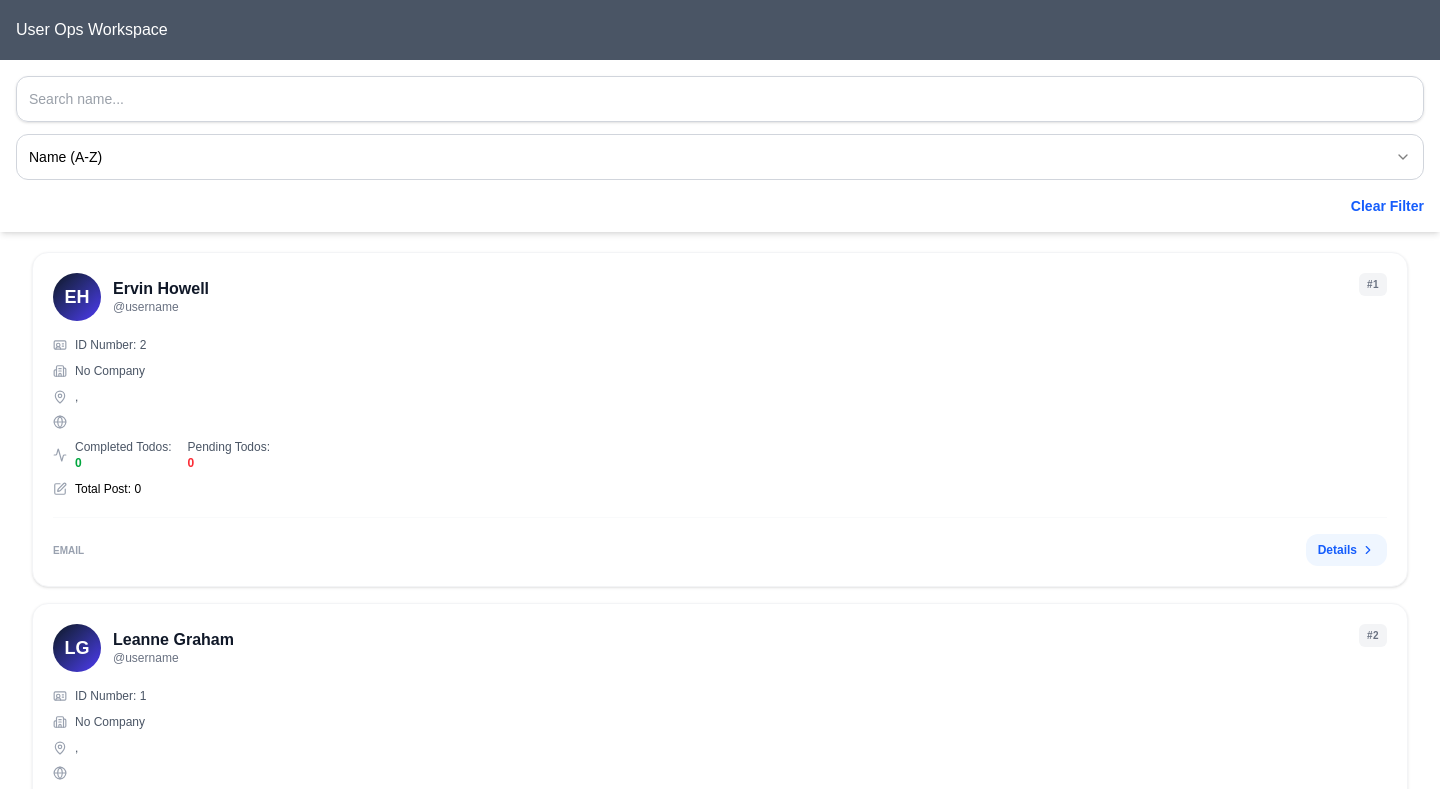
UsersMobile Test › should filter users when typing in search input
The width and height of the screenshot is (1440, 810).
Step 1. Type "Ervin" into the field with placeholder "Search name..." → (720, 99), box [16,76,1424,122]
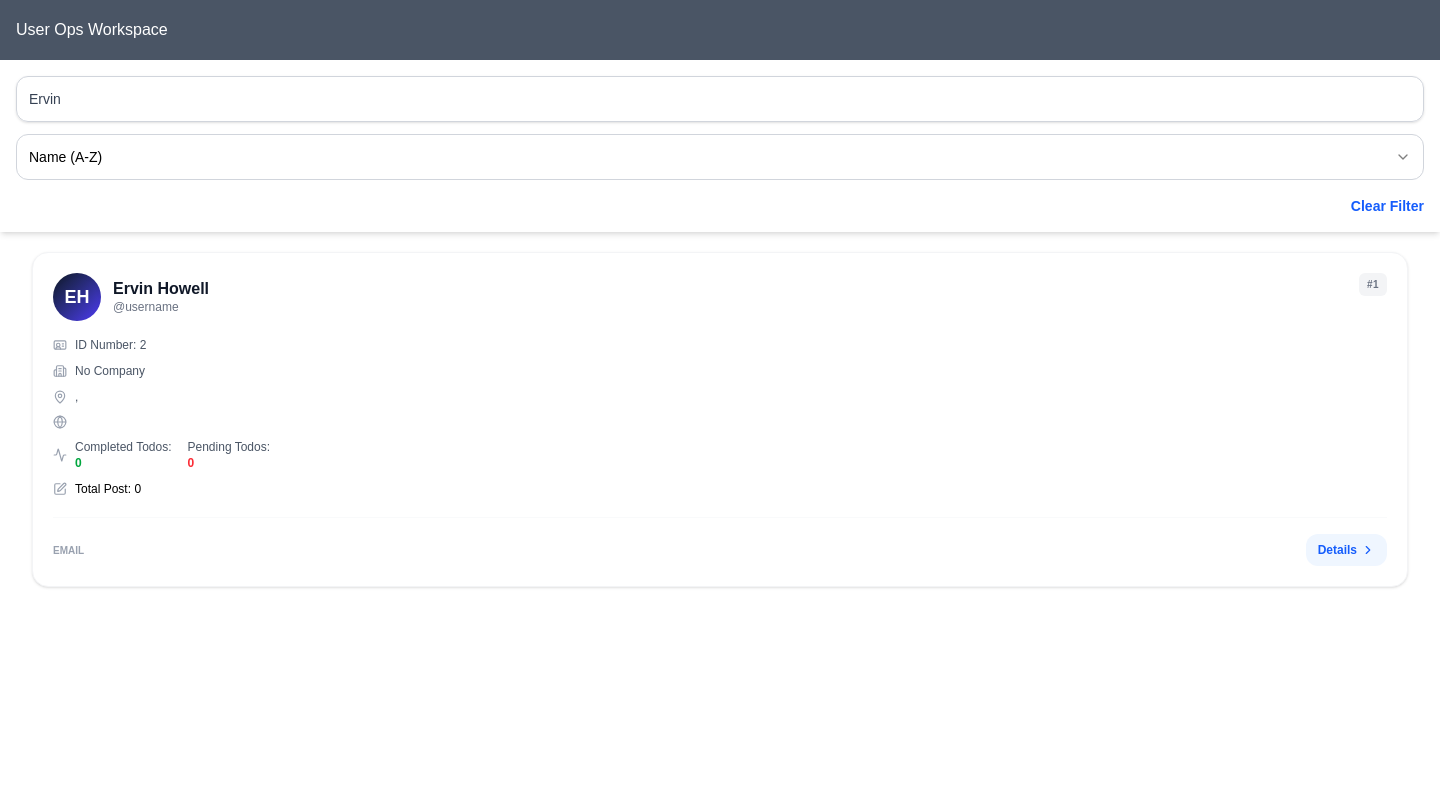
Check: the heading "Ervin Howell" is shown, box [113,279,209,299]
Check: the heading "Leanne Graham" is gone
